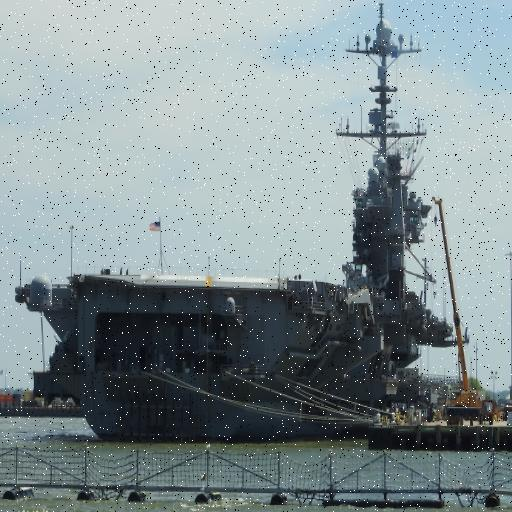Portanaves: (17, 1, 463, 445)
